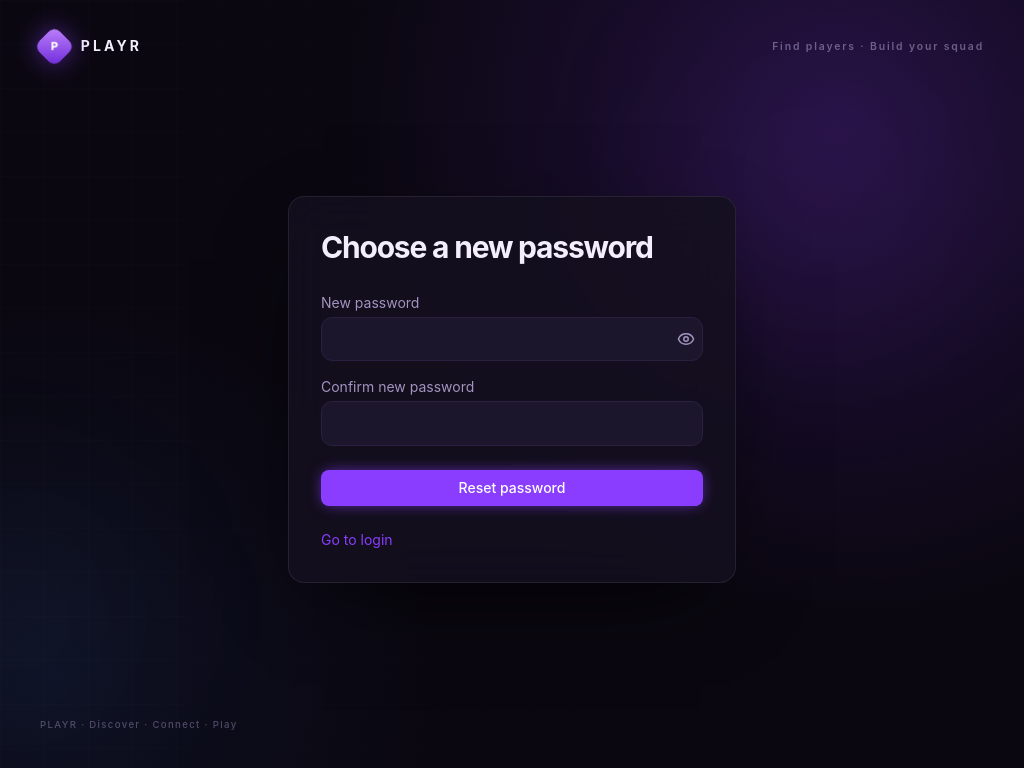
ResetPasswordPage › reports an expired or invalid link
Type "NewPassword123" into the password field labelled "New password".
click(512, 339); type("NewPassword123")  # box top-left (321, 317), bottom-right (703, 361)
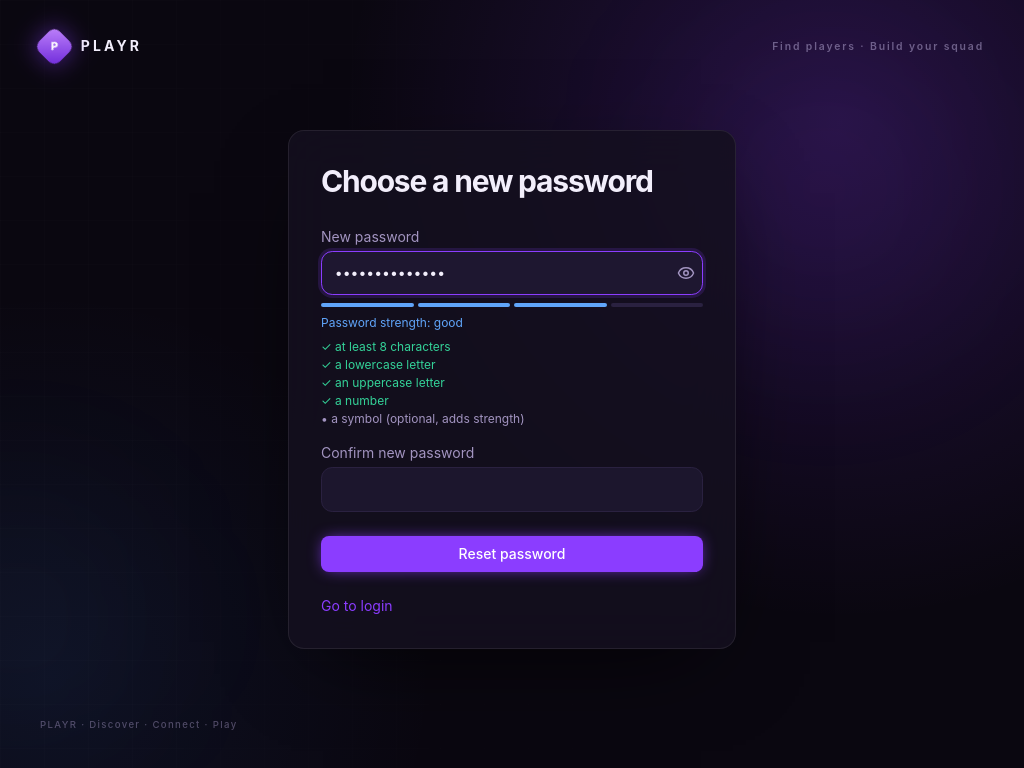
Type "NewPassword123" into the password field labelled "Confirm new password".
click(512, 489); type("NewPassword123")  # box top-left (321, 467), bottom-right (703, 512)
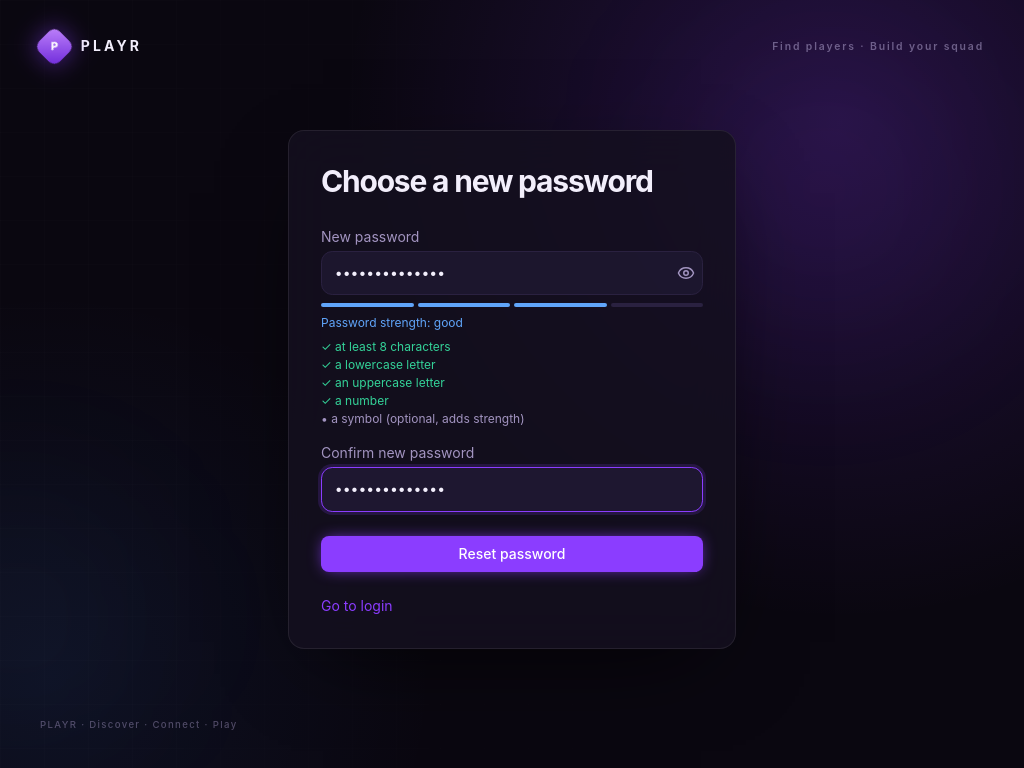
Click the button "Reset password".
click(512, 554)  # box top-left (321, 536), bottom-right (703, 572)
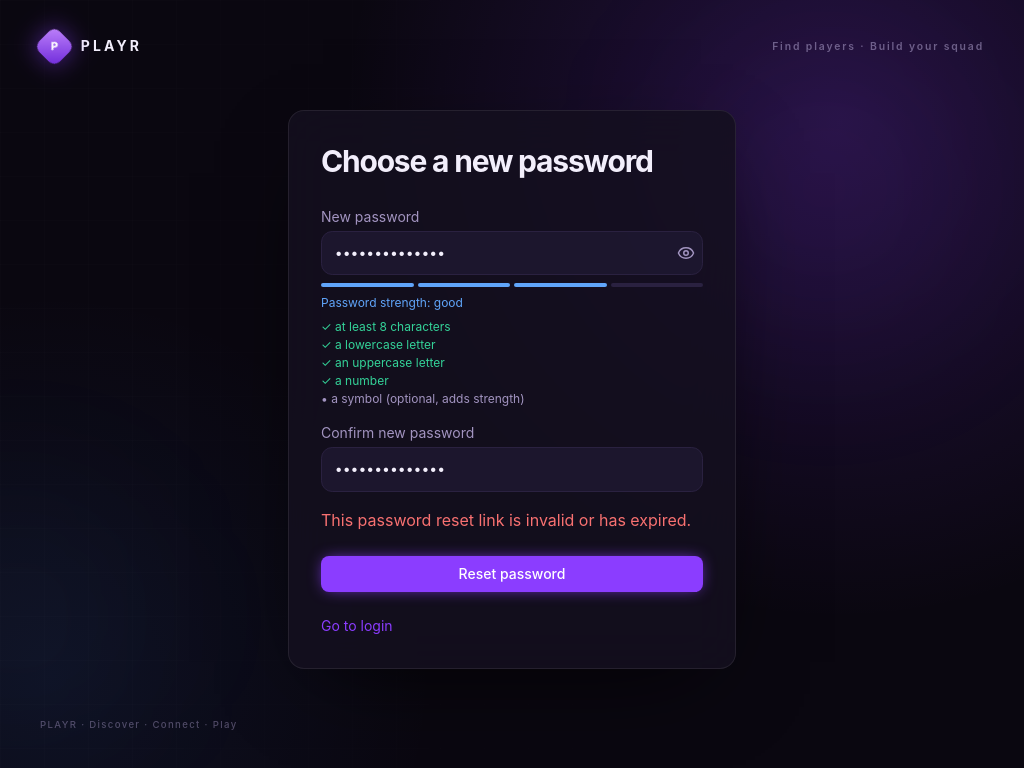
Expected: the text "This password reset link is invalid or has expired." is shown, top-left (321, 508), bottom-right (703, 532)
